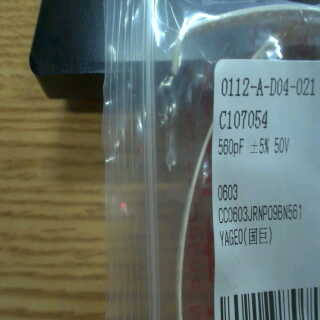560pF: (215, 135, 246, 163)
